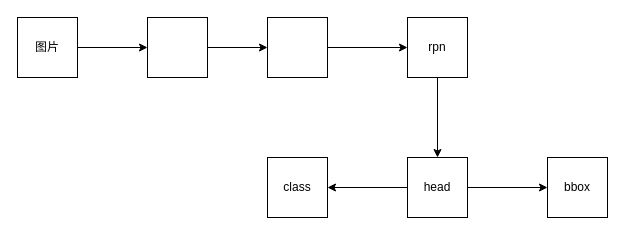
Some shapes in this 625 by 235 pixel diagram are drawn without their labels. The centre of each missing label's shape, as x and y in pixels:
"fpn" belongs at (x=297, y=47).
"resnet" belongs at (x=177, y=47).
